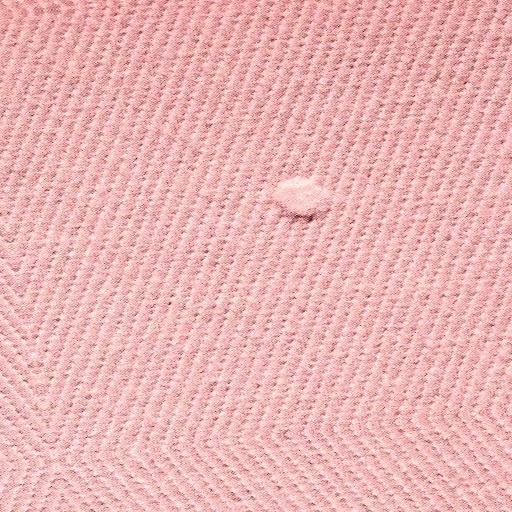knot: (268, 175, 342, 224)
